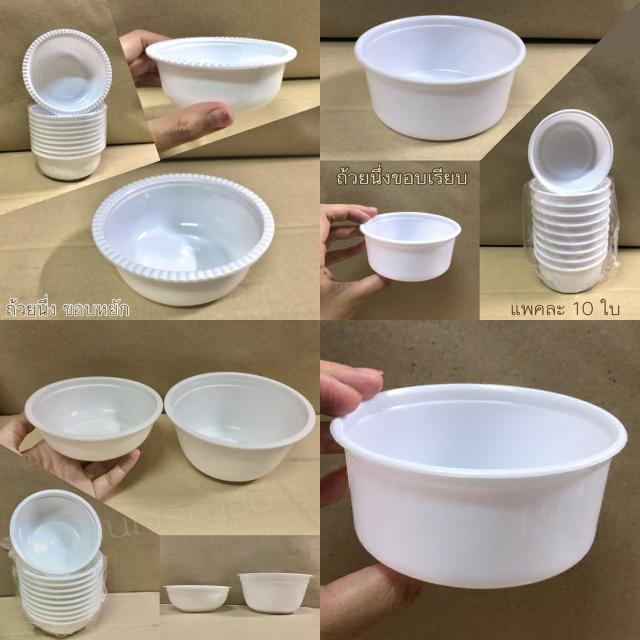Single-Use-Plastic: (330, 384, 628, 588), (92, 174, 274, 306), (355, 15, 525, 140), (165, 372, 315, 481), (25, 376, 162, 461), (146, 38, 296, 112), (22, 29, 111, 115), (10, 490, 101, 574), (528, 109, 614, 192), (360, 212, 461, 281), (239, 572, 312, 614), (164, 585, 230, 612)
